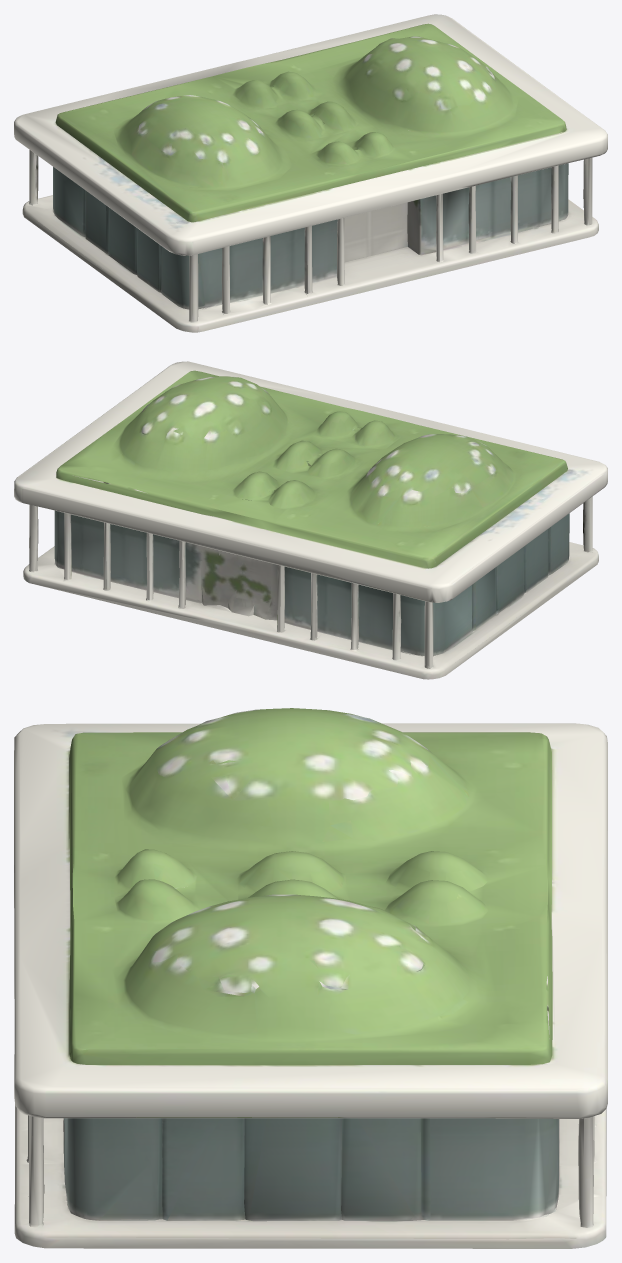
File: w4-cal-academy.glb
3 renders of one model, top to bottom at view 1: azimuth 30°, elevation 25°; view 2: azimuth 150°, elevation 25°; view 3: azimuth 270°, elevation 25°, orthographic. The views are drawn at different scales.
Parts seen in each view (by area): view 1: w4-cal-academy; view 2: w4-cal-academy; view 3: w4-cal-academy.
Part boxes in pixels (<box>): w4-cal-academy: <box>14,14,607,332</box>; w4-cal-academy: <box>14,361,607,679</box>; w4-cal-academy: <box>14,708,607,1248</box>.
Size of the model in its own units: 24.4 by 7.9 by 16.6.
1 material, 1 textured.
